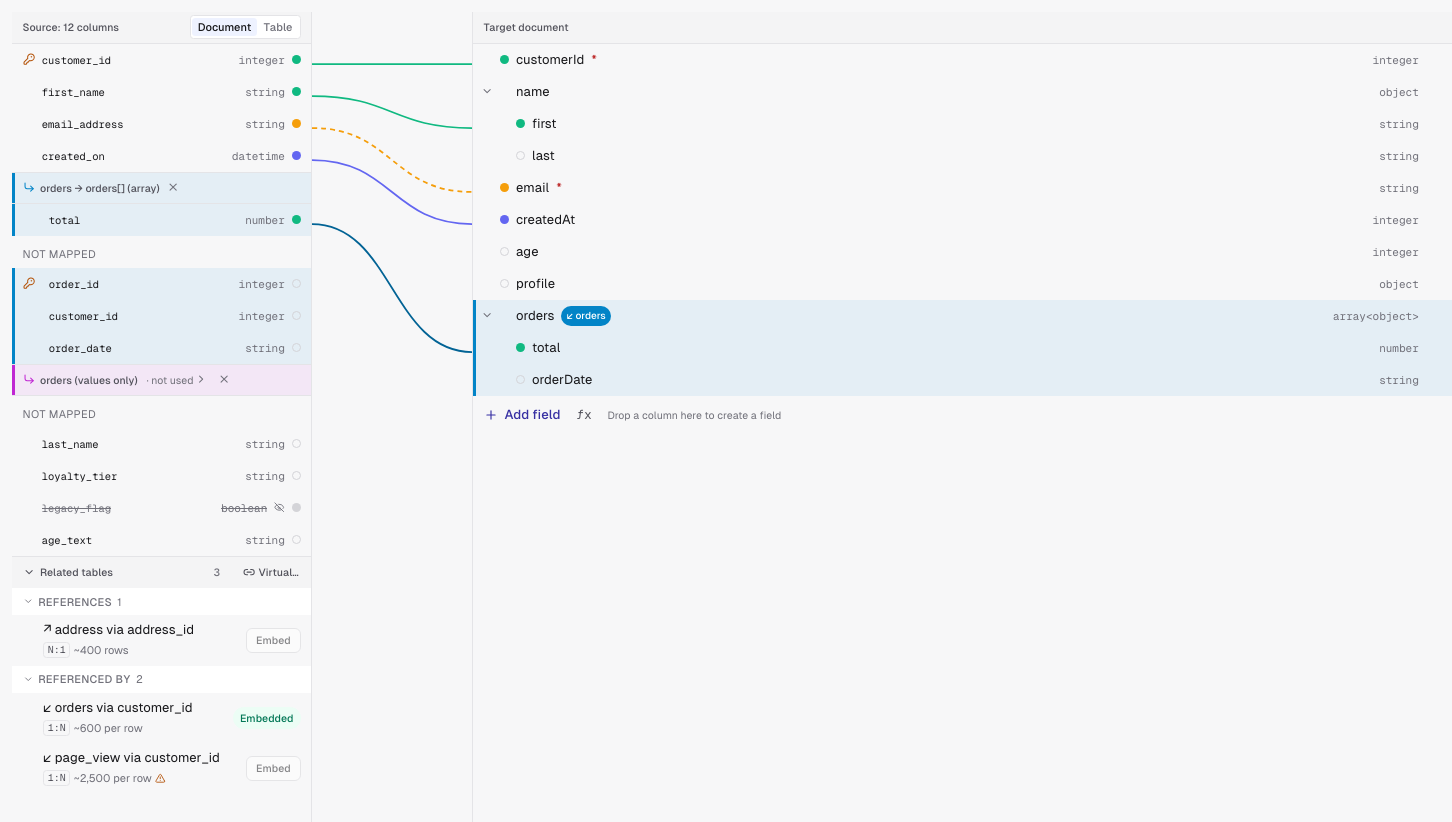
Test: MappingCanvas › OC-177 AC2: an unused lookup shows only its header until opened
The width and height of the screenshot is (1452, 822).
expect the element with test id "embed-group-rel_lk" reads "orders (values only) · not used": met, box [12, 364, 311, 396]
expect the element with test id "source-emb_o:total" is shown: met, box [12, 204, 311, 236]
Click the button with aria-label "Show orders's columns": (177, 380) [143, 372, 211, 386]
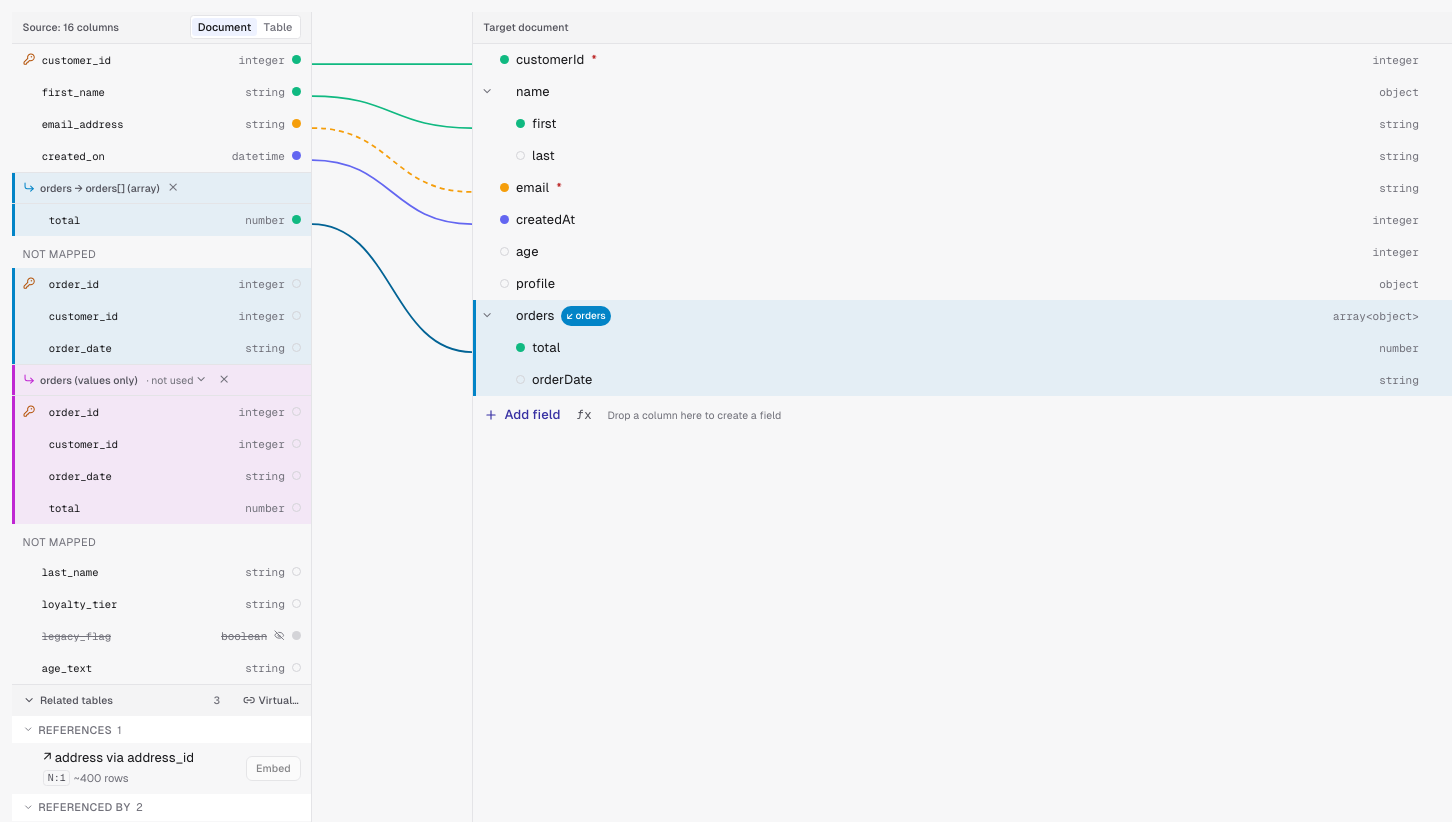
expect the element with test id "source-rel_lk:total" is shown: met, box [12, 492, 311, 524]
Click the button with aria-label "Hide orders's columns": (177, 380) [143, 372, 211, 386]
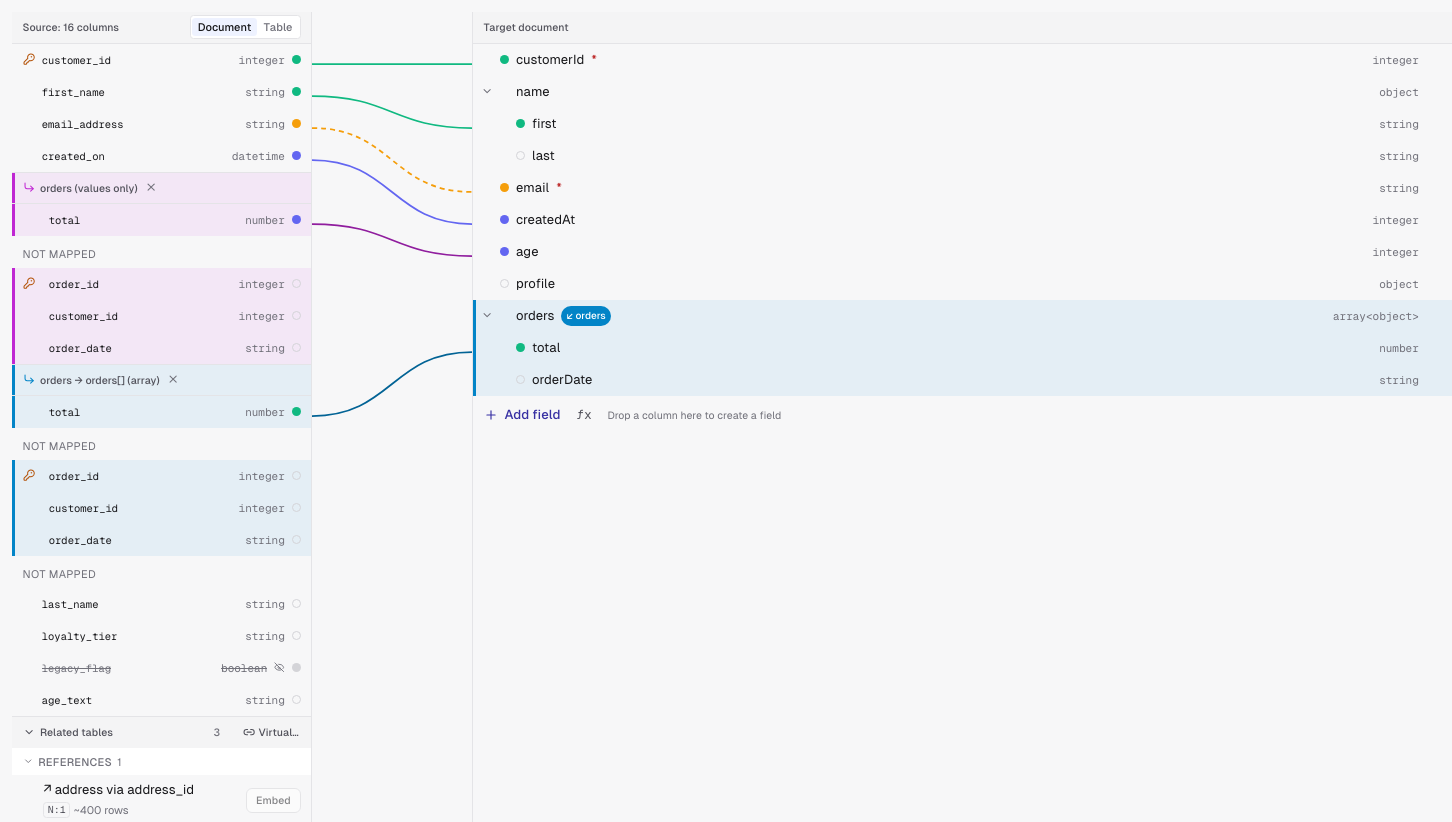
expect the element with test id "source-rel_lk:total" is shown: met, box [12, 204, 311, 236]
expect the element with test id "embed-group-rel_lk" no longer shows "not used": met, box [12, 172, 311, 204]
